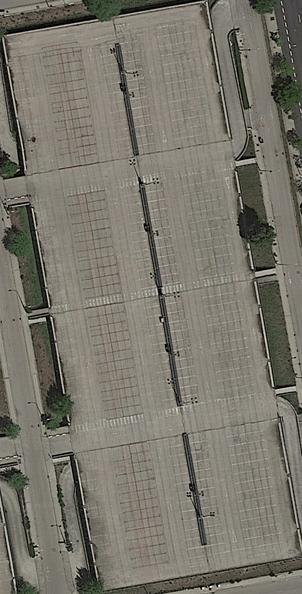parkingspot: (3, 34, 45, 176), (115, 30, 158, 158), (223, 423, 266, 550), (154, 24, 197, 150), (95, 34, 137, 161), (109, 444, 151, 570), (128, 440, 170, 566), (186, 430, 228, 556), (59, 40, 100, 167), (40, 44, 81, 170), (173, 21, 214, 147), (166, 434, 207, 560), (243, 421, 284, 547), (104, 301, 144, 418), (200, 284, 240, 401), (217, 281, 257, 398), (85, 304, 124, 421), (142, 294, 180, 411), (164, 291, 201, 407), (180, 172, 219, 281), (80, 478, 117, 592), (84, 189, 122, 297), (51, 311, 87, 425), (66, 193, 104, 300), (199, 171, 237, 277), (122, 183, 159, 291), (144, 179, 180, 288), (31, 201, 67, 307)
